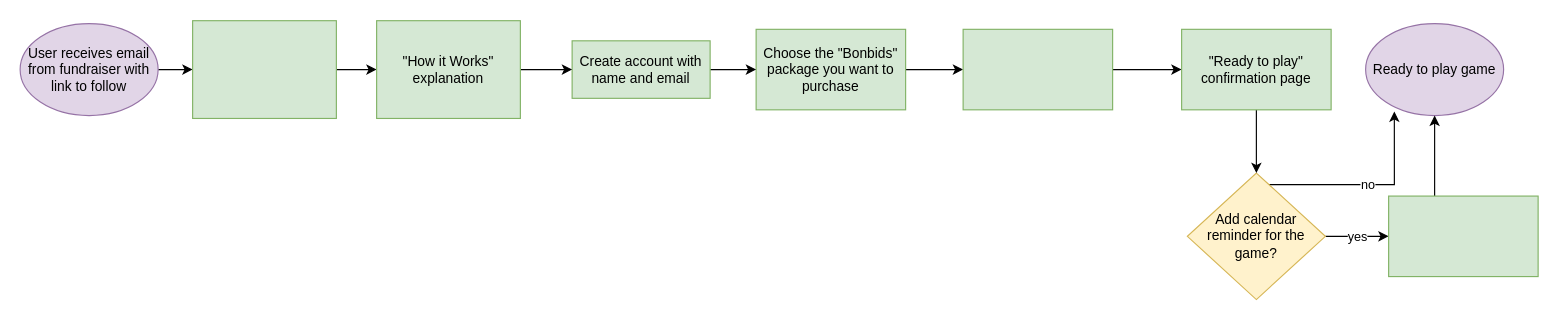
The diagram is 1558 pixels wide and 320 high, and some of its shapes have lost their labels. Each missing label, with the box of its shape:
Add reminder to chosen calendar: (1387, 195, 1538, 277)
Confirm package selection and add payment: (962, 28, 1113, 110)
Fundraiser landing page with possible prizes and where money goes: (191, 20, 336, 118)
